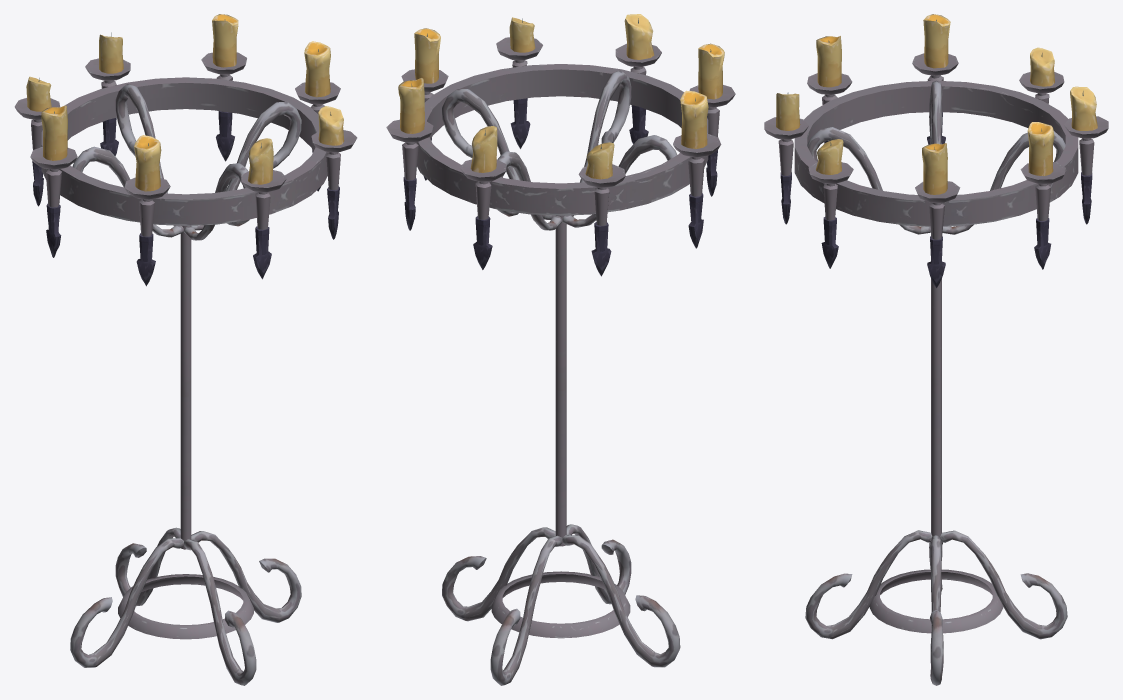
Rendered from CandleStick_Stand.gltf.
3 views of the same model, side by side, from view 1: azimuth 30°, elevation 25°; view 2: azimuth 150°, elevation 25°; view 3: azimuth 270°, elevation 25° (orthographic). The views are drawn at different scales.
Visible parts, largest first — view 1: CandleStick_Stand; view 2: CandleStick_Stand; view 3: CandleStick_Stand.
Boxes of the visible parts, x1,y1,x2,y2 form: CandleStick_Stand: (14,14,357,685); CandleStick_Stand: (386,14,735,685); CandleStick_Stand: (764,14,1108,685).
Size of the model in its own units: 0.7323 by 1.31 by 0.7313.
Materials: 2 (2 with a texture image).
